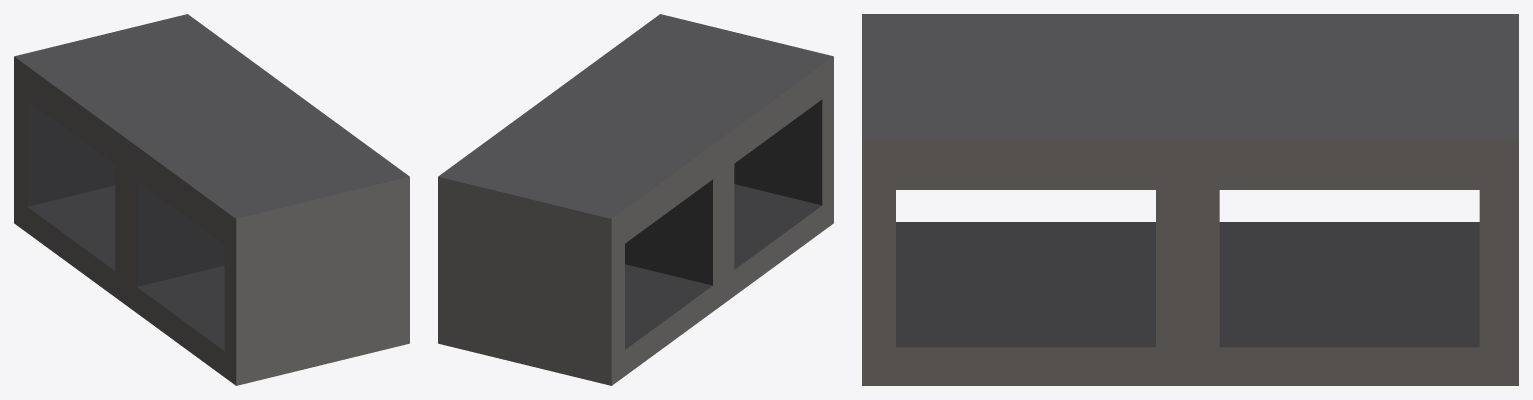
The model's file is brick.fbx.
3 renders of one model, left to right at view 1: azimuth 30°, elevation 25°; view 2: azimuth 150°, elevation 25°; view 3: azimuth 270°, elevation 25°, orthographic. The views are drawn at different scales.
Parts seen in each view (by area): view 1: Cube; view 2: Cube; view 3: Cube.
Part boxes in pixels (x1=…): Cube: x1=14, y1=14, x2=409, y2=385; Cube: x1=438, y1=14, x2=833, y2=385; Cube: x1=862, y1=14, x2=1518, y2=385.
Size of the model in its own units: 183 by 168 by 406.
